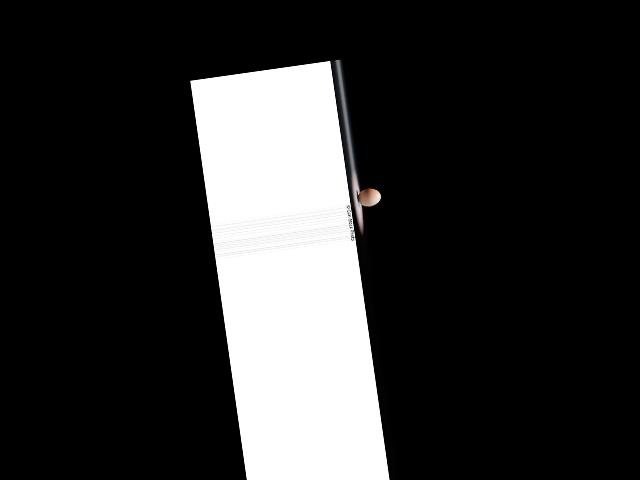egg: (356, 186, 381, 208)
